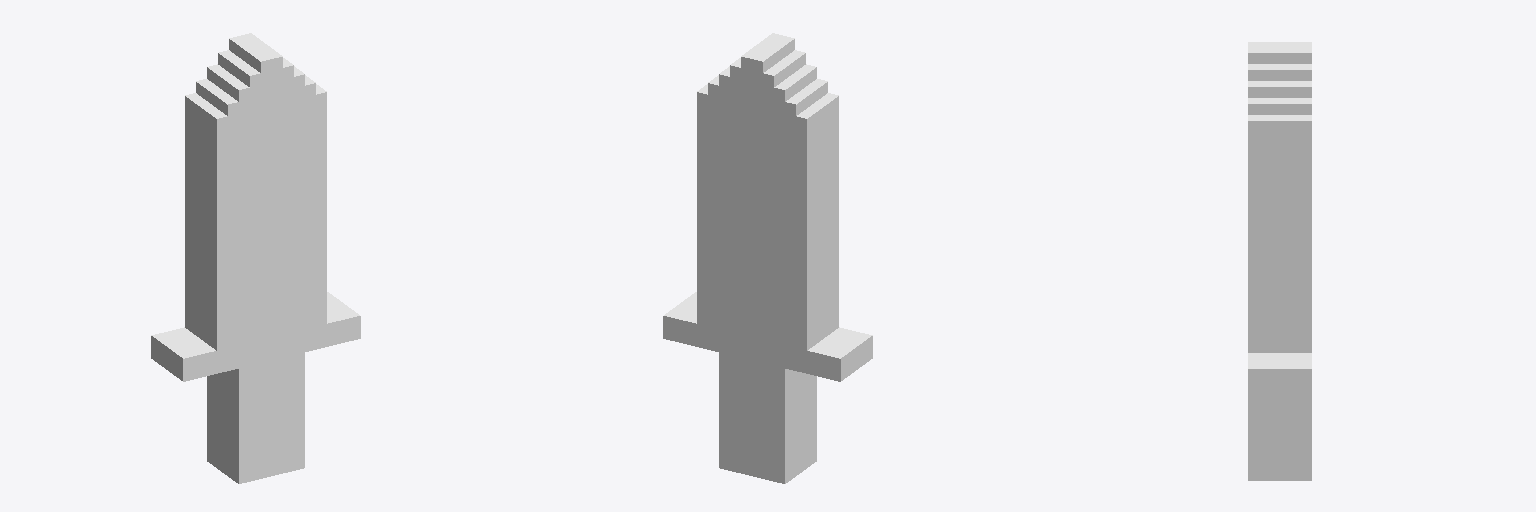
Rendered from shortSword.obj.
The picture shows the model from 3 angles: view 1: azimuth 30°, elevation 25°; view 2: azimuth 150°, elevation 25°; view 3: azimuth 270°, elevation 25°; orthographic projection.
Size of the model in its own units: 16 by 36 by 5.